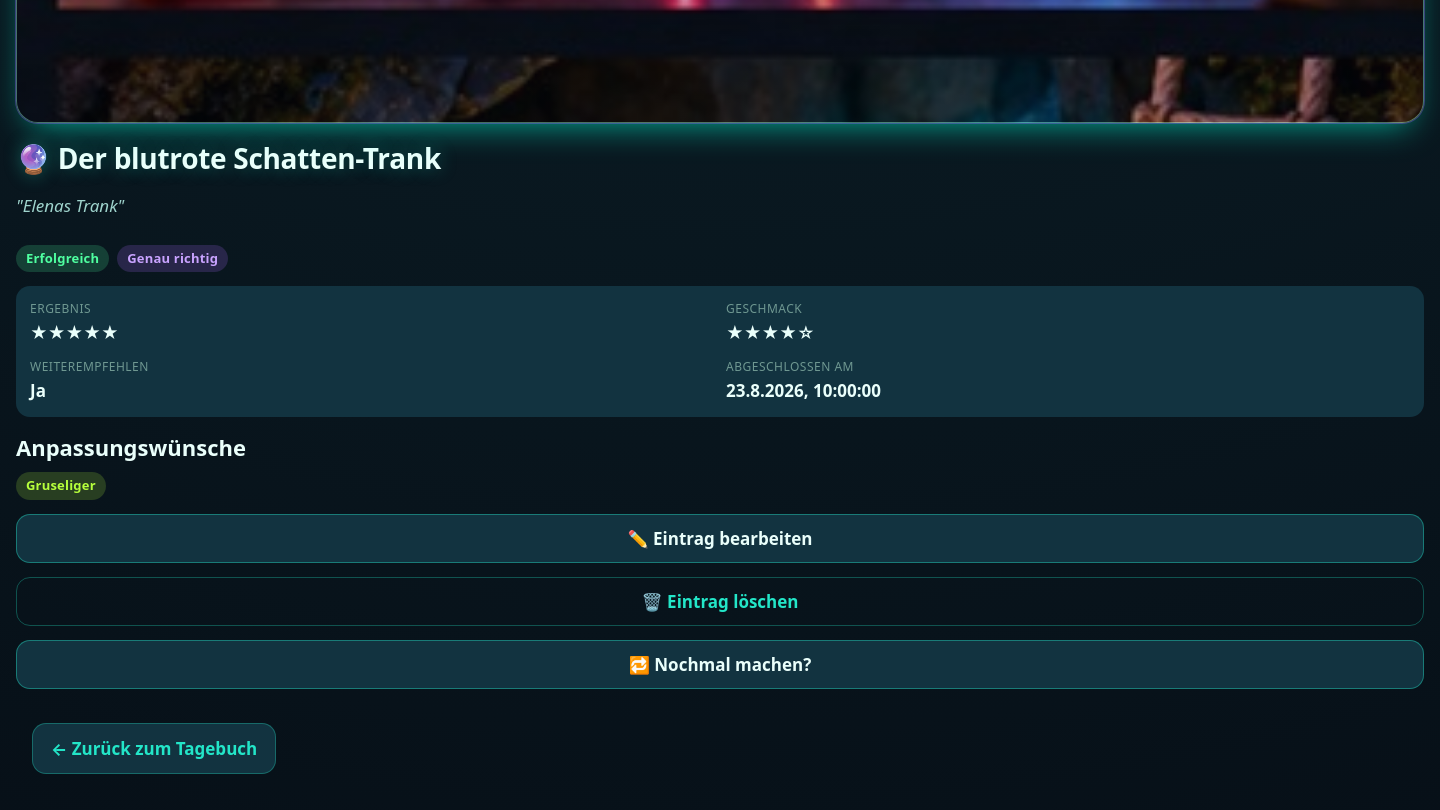
DiaryEntryDetailPage › schaltet "nochmal machen" um und speichert es dauerhaft
(page scrolled)
Click the button "🔁 Nochmal machen?".
click(720, 664)  # box x1=16 y1=640 x2=1424 y2=688
(page scrolled)
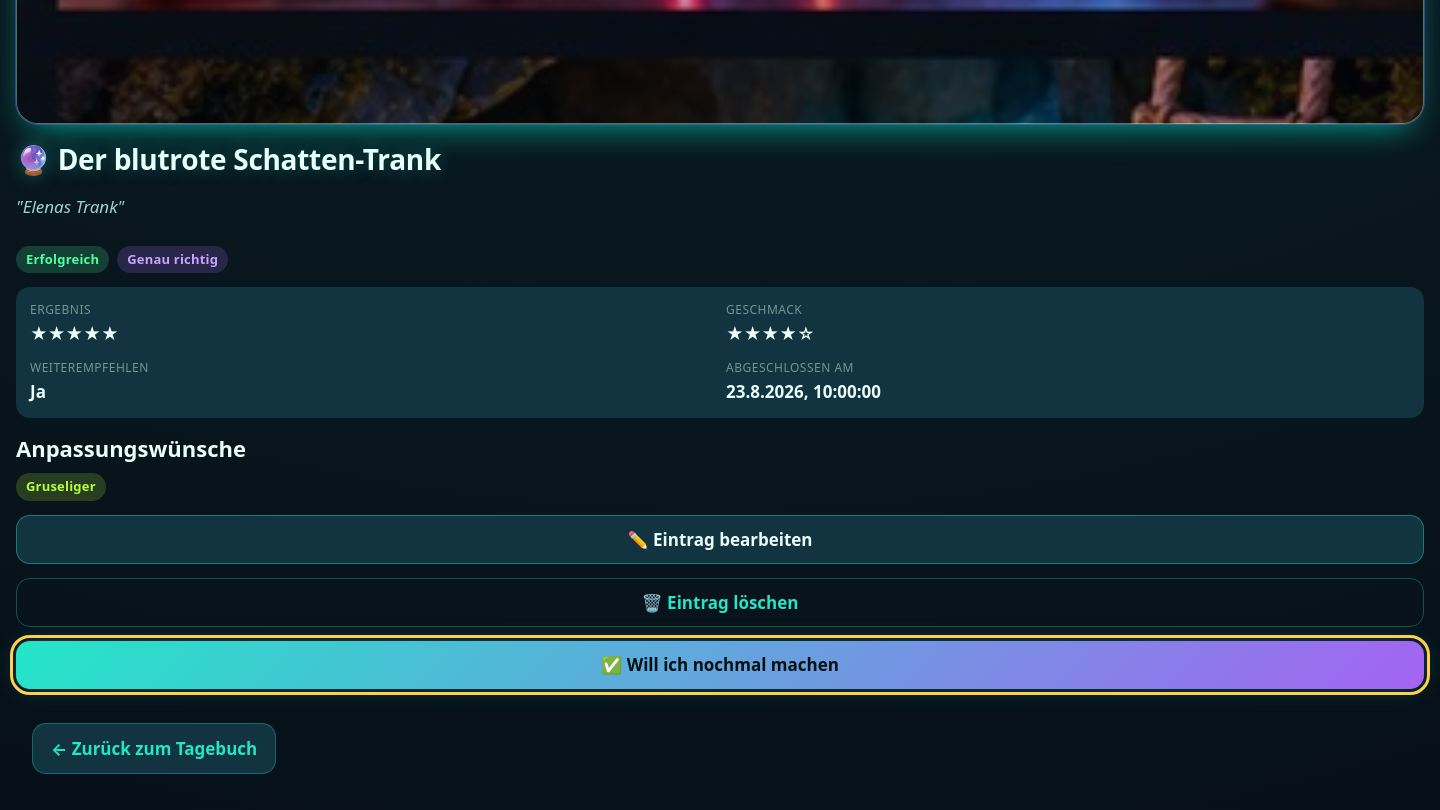
Now the button "✅ Will ich nochmal machen" is shown, box x1=16 y1=640 x2=1424 y2=688
